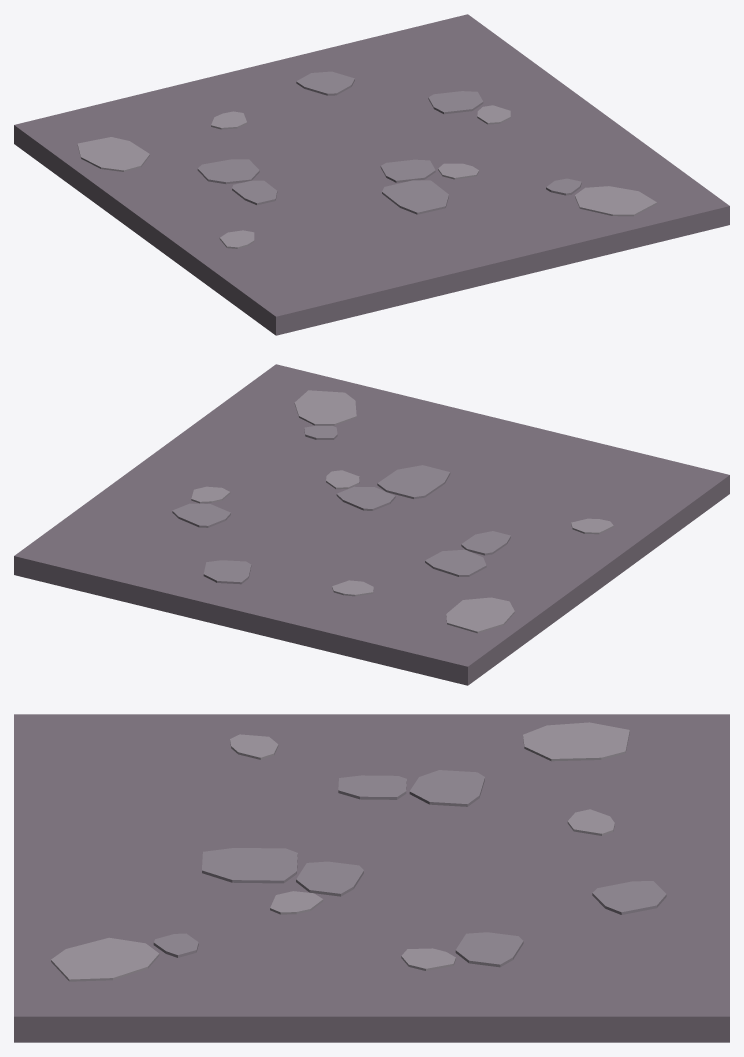
File: vloer.fbx
The picture shows the model from 3 angles, top to bottom: view 1: azimuth 30°, elevation 25°; view 2: azimuth 150°, elevation 25°; view 3: azimuth 270°, elevation 25°; orthographic projection. The views are drawn at different scales.
Parts seen in each view (by area): view 1: polySurface197; view 2: polySurface197; view 3: polySurface197.
Part boxes in pixels (box(x1,y1,x2,y2)): polySurface197: box(14, 14, 729, 335); polySurface197: box(14, 364, 729, 685); polySurface197: box(14, 714, 729, 1042).
Size of the model in its own units: 5 by 0.2212 by 5.
